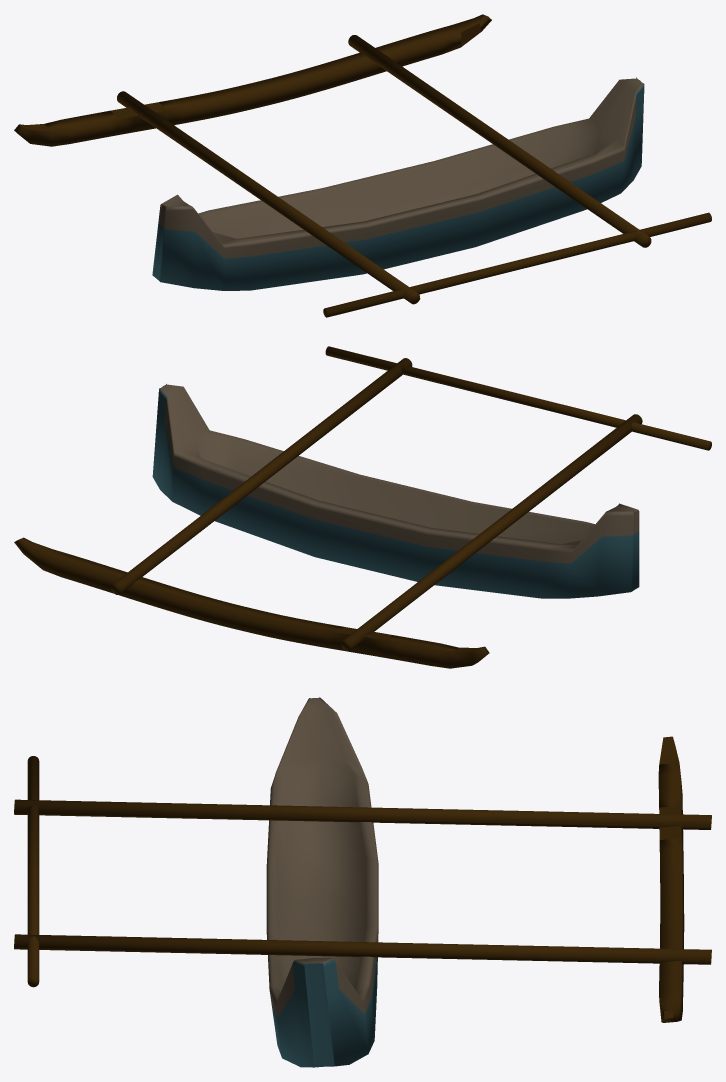
Rendered from pirogue.gltf.
3 views of the same model, one above another, from view 1: azimuth 30°, elevation 25°; view 2: azimuth 150°, elevation 25°; view 3: azimuth 270°, elevation 25° (orthographic). The views are drawn at different scales.
Visible parts, largest first — view 1: Cube; view 2: Cube; view 3: Cube.
Boxes of the visible parts, x1,y1,x2,y2 form: Cube: [14, 14, 711, 317]; Cube: [14, 346, 711, 668]; Cube: [14, 697, 711, 1067].
Bounding box in the file's own units: 6.97 × 1.58 × 7.34.
